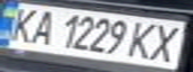1: (51, 11, 81, 50)
2: (90, 15, 115, 55), (72, 12, 96, 53)
9: (106, 17, 133, 56)
A: (21, 8, 60, 47)
K: (0, 4, 45, 43), (124, 19, 163, 61)
X: (142, 21, 190, 64)
